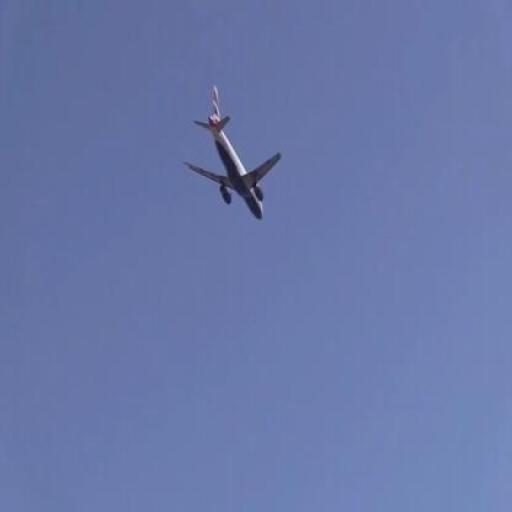aircraft: (183, 86, 283, 220)
